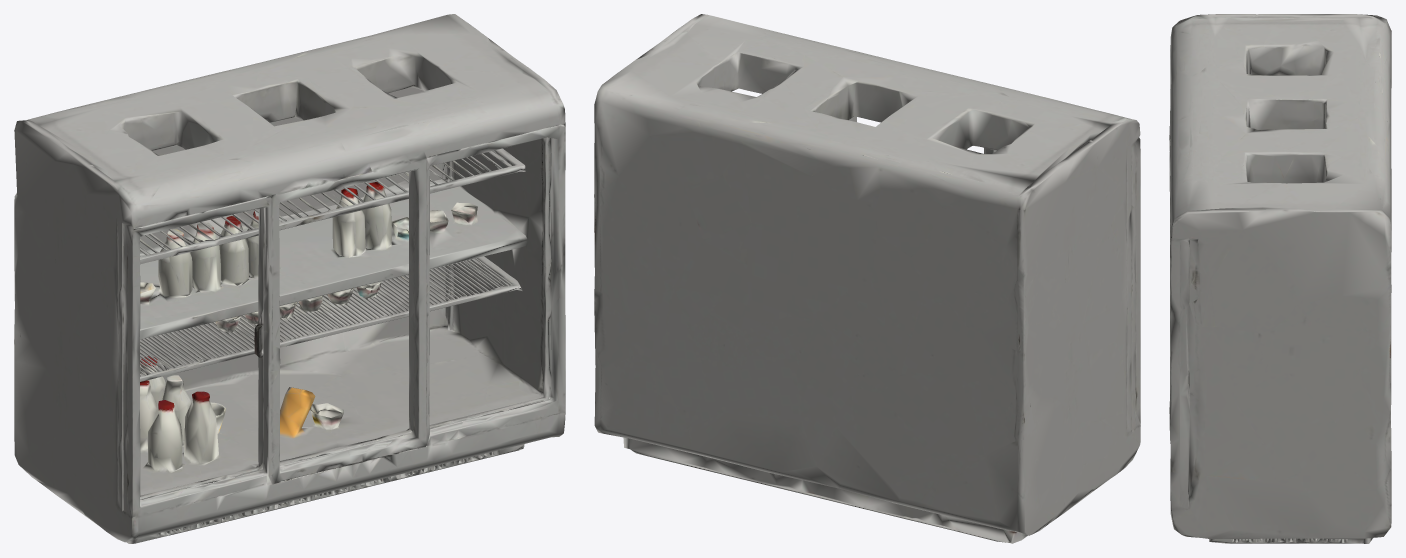
The model's file is dairy-case.glb.
3 renders of one model, left to right at view 1: azimuth 30°, elevation 25°; view 2: azimuth 150°, elevation 25°; view 3: azimuth 270°, elevation 25°, orthographic. The views are drawn at different scales.
Size of the model in its own units: 1.9 by 1.53 by 0.9017.
1 material, 1 textured.
